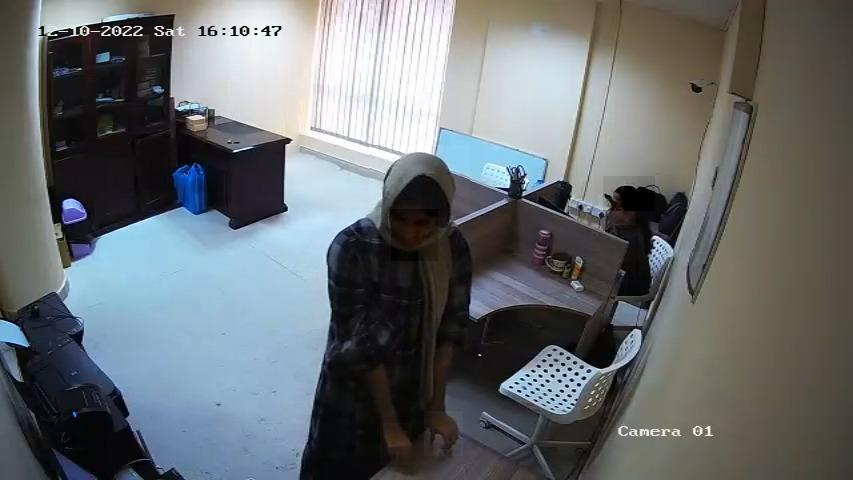no_apron: (424, 412, 464, 456), (380, 423, 412, 465)
no_gloves: (369, 146, 470, 210), (603, 177, 655, 212)
no_hairnet: (392, 207, 439, 261), (599, 194, 637, 225)
